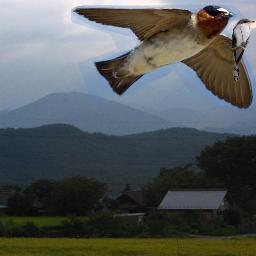Cuckoo: (231, 18, 255, 81)
Swallow: (71, 5, 255, 110)
